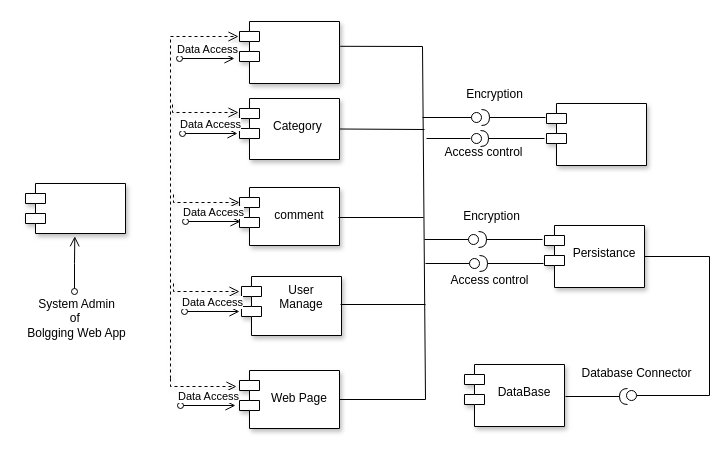
Some shapes in this 728 by 453 pixel diagram are drawn without their labels. The centre of each missing label's shape, as x and y in pixels:
Blog: (x=290, y=53)
Blogging System: (x=76, y=209)
JWT Security: (x=597, y=135)
